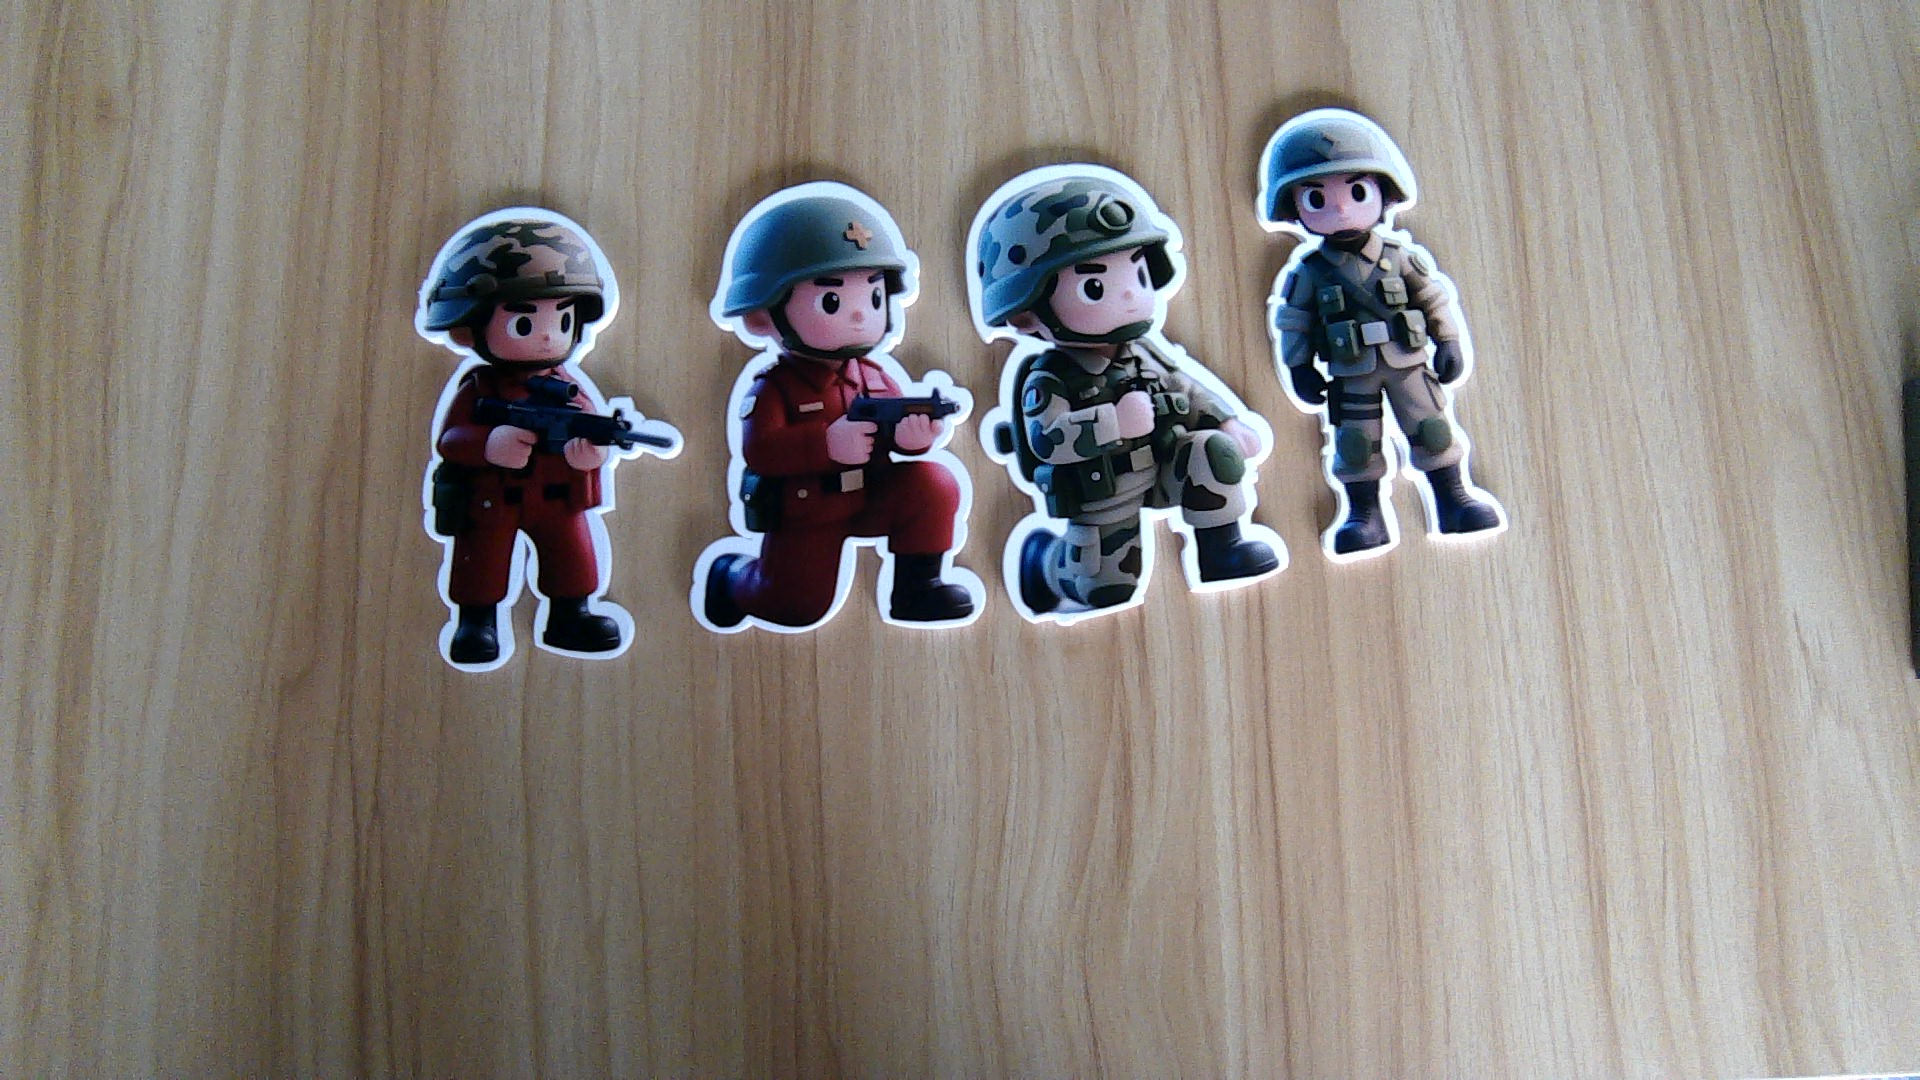友军: (982, 348, 1295, 624), (1261, 231, 1515, 562)
敌人1: (688, 353, 982, 636), (415, 360, 680, 669)
